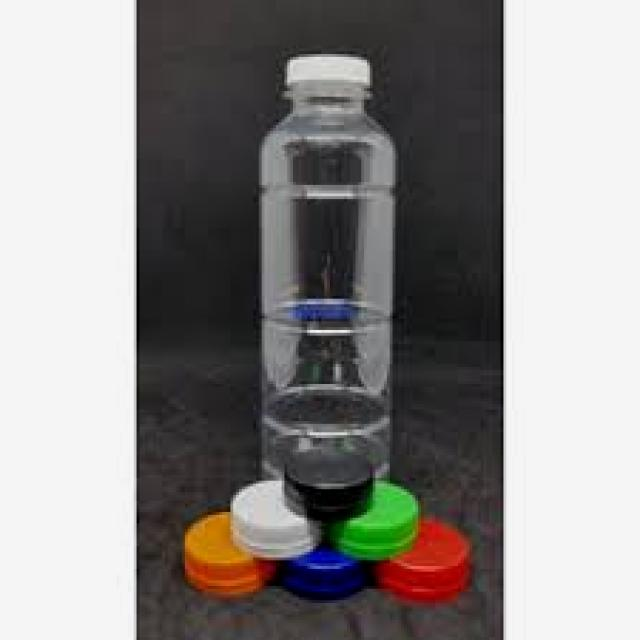bottle: (215, 44, 451, 475)
